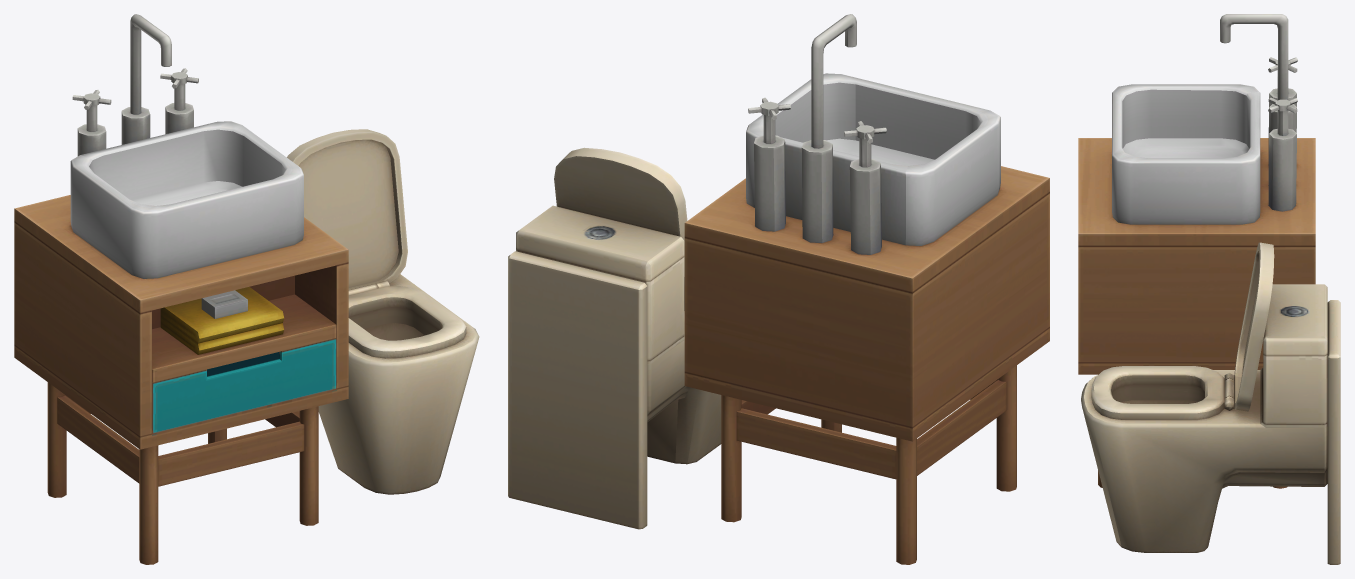
The model's file is baño.fbx.
3 renders of one model, left to right at view 1: azimuth 30°, elevation 25°; view 2: azimuth 150°, elevation 25°; view 3: azimuth 270°, elevation 25°, orthographic. The views are drawn at different scales.
Parts seen in each view (by area): view 1: TinyLiving_TheSinkzBathroomVanity, TinyLiving_CompactLavatory; view 2: TinyLiving_TheSinkzBathroomVanity, TinyLiving_CompactLavatory; view 3: TinyLiving_TheSinkzBathroomVanity, TinyLiving_CompactLavatory.
Part boxes in pixels (bbox=[...]): TinyLiving_TheSinkzBathroomVanity: bbox=[14, 14, 348, 564]; TinyLiving_CompactLavatory: bbox=[287, 129, 479, 494]; TinyLiving_TheSinkzBathroomVanity: bbox=[684, 14, 1049, 564]; TinyLiving_CompactLavatory: bbox=[508, 147, 721, 529]; TinyLiving_TheSinkzBathroomVanity: bbox=[1078, 14, 1315, 488]; TinyLiving_CompactLavatory: bbox=[1081, 242, 1340, 564].
Size of the model in its own units: 112 by 137 by 75.15.
2 materials, 2 textured.
